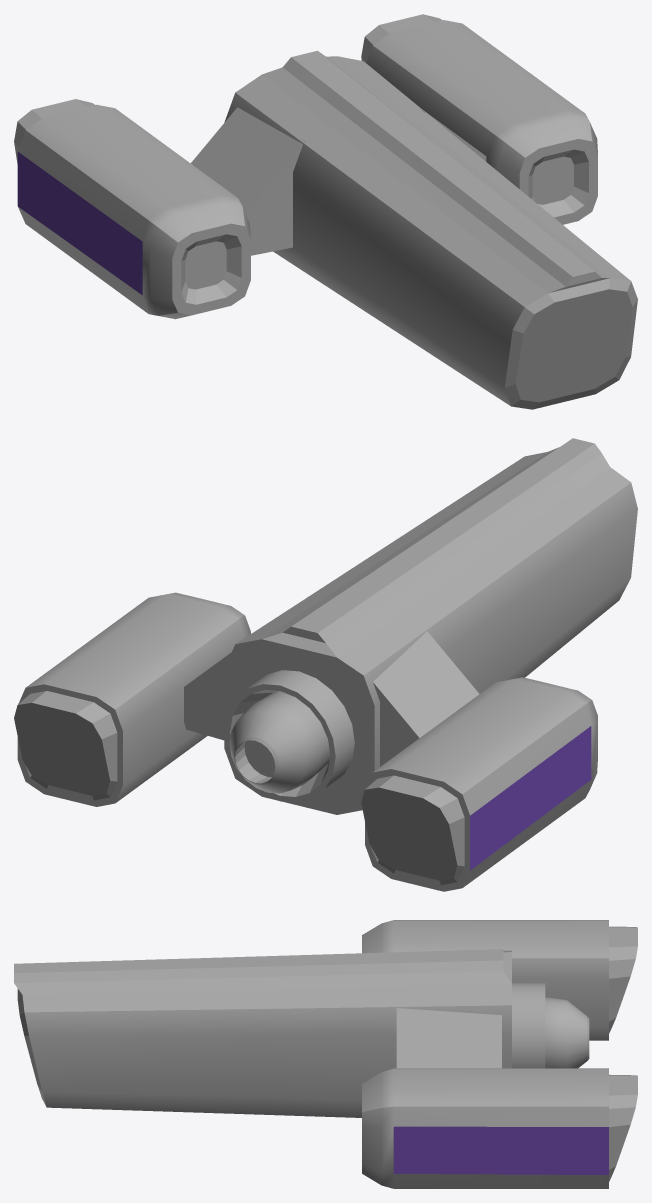
File: SpeederShip_Blockout 1.fbx
The picture shows the model from 3 angles, top to bottom: view 1: azimuth 30°, elevation 25°; view 2: azimuth 150°, elevation 25°; view 3: azimuth 270°, elevation 25°; orthographic projection. The views are drawn at different scales.
Visible parts, largest first — view 1: SpeederShip_Body, Panel_R; view 2: SpeederShip_Body, Panel_R; view 3: SpeederShip_Body, Panel_L.
Boxes of the visible parts, x1,y1,x2,y2 form: SpeederShip_Body: (14, 14, 637, 409); Panel_R: (17, 151, 142, 295); SpeederShip_Body: (14, 438, 637, 891); Panel_R: (470, 726, 591, 870); SpeederShip_Body: (14, 920, 637, 1188); Panel_L: (393, 1126, 608, 1174).
Bounding box in the file's own units: 17.24 × 6.28 × 23.54.
